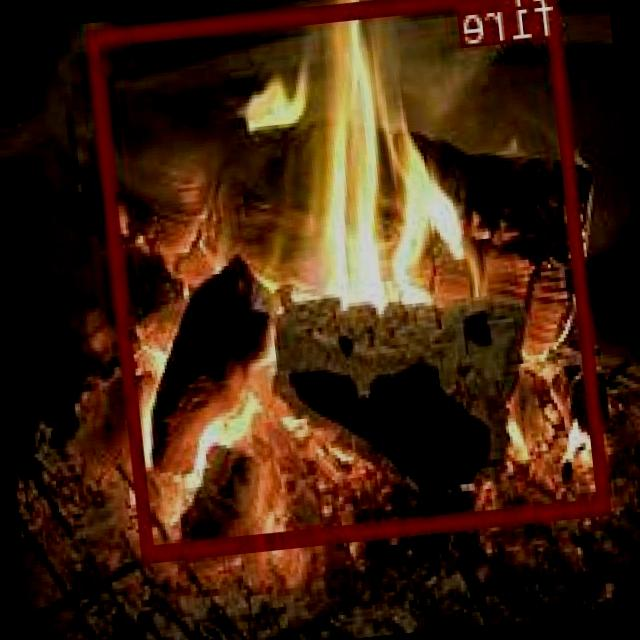fire: (88, 0, 612, 558)
